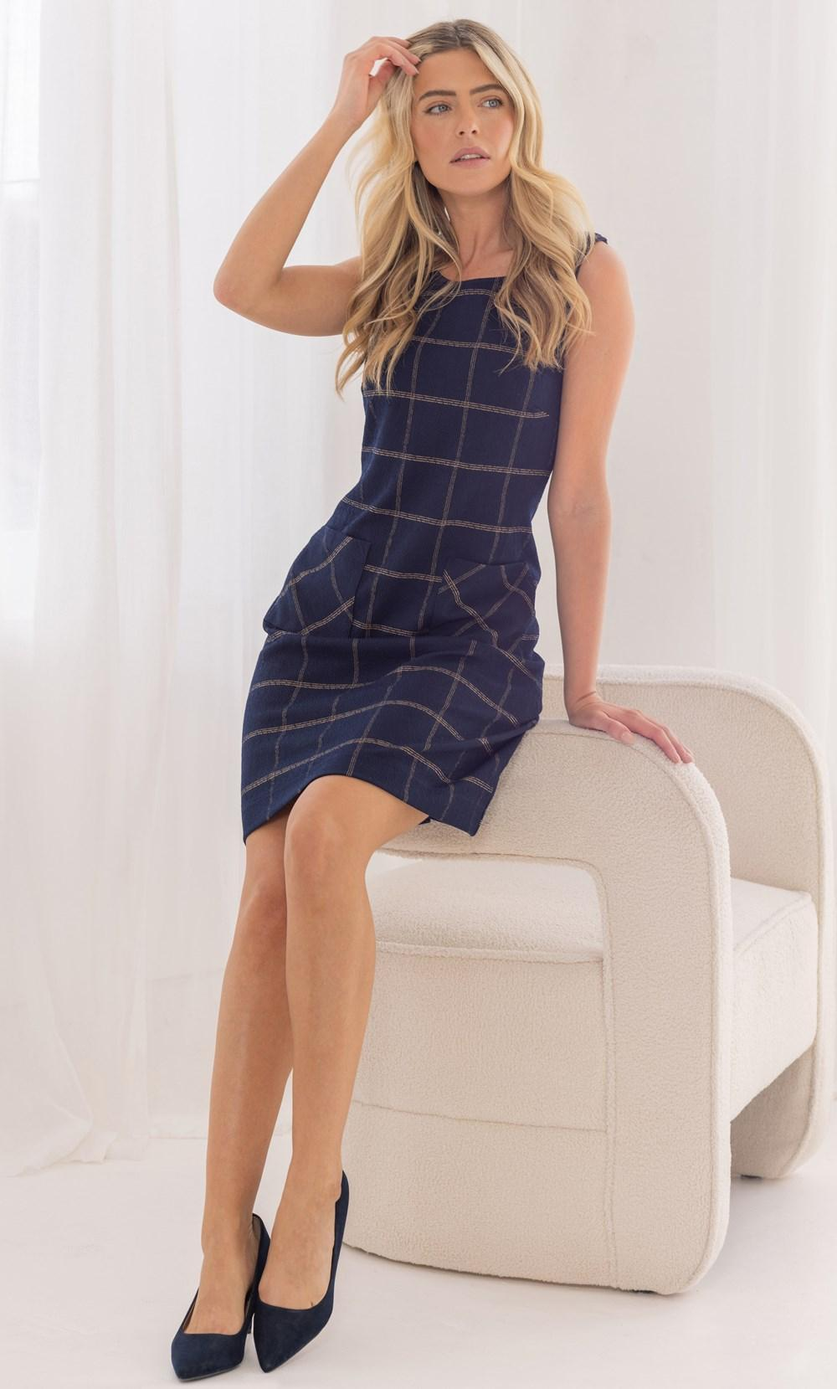dress: (235, 221, 605, 838)
